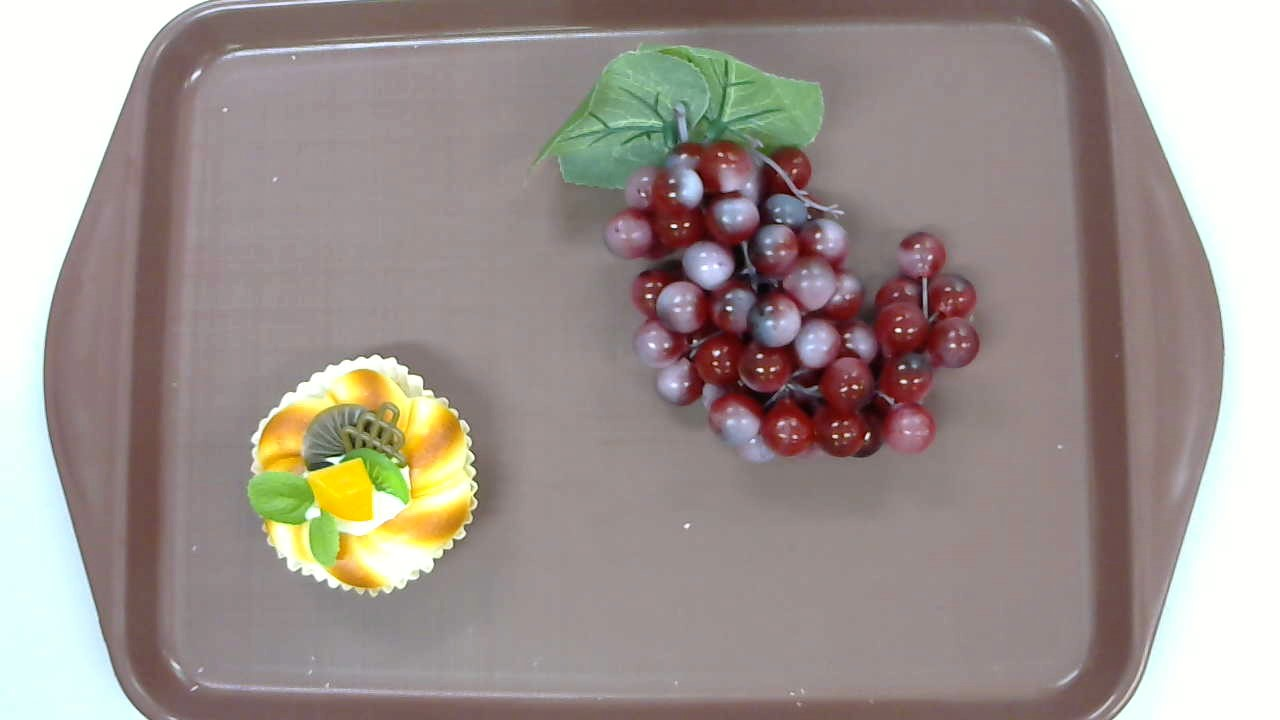fruit tart: (246, 353, 479, 599)
grape: (531, 43, 979, 464)
